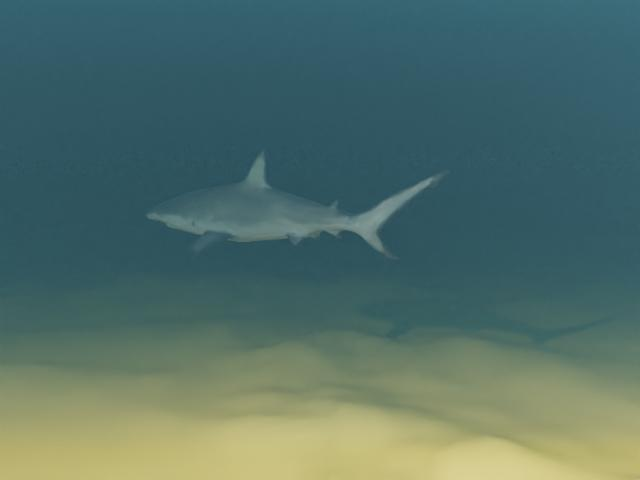Carribean Shark.001: (145, 150, 449, 259)
